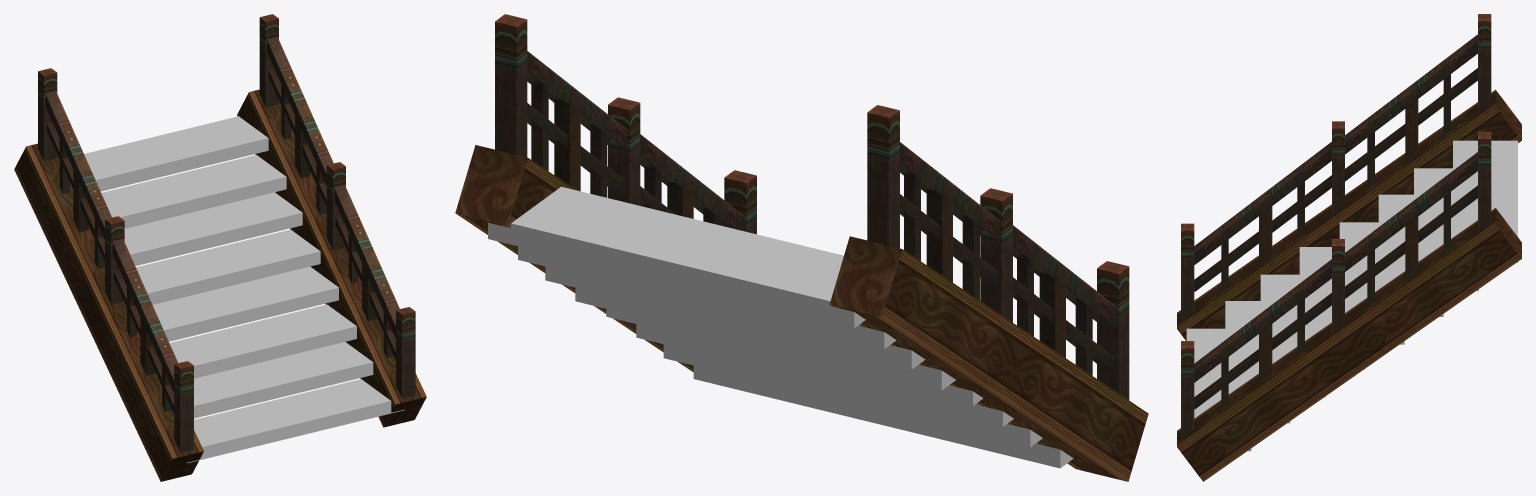
File: environment_Building_hantianta_001_g.FBX
3 renders of one model, left to right at view 1: azimuth 30°, elevation 25°; view 2: azimuth 150°, elevation 25°; view 3: azimuth 270°, elevation 25°, orthographic. The views are drawn at different scales.
Parts seen in each view (by area): view 1: environment_Building_hantianta_001_g01, environment_Building_hantianta_001_g02, environment_Building_hantianta_001_g03; view 2: environment_Building_hantianta_001_g01, environment_Building_hantianta_001_g02, environment_Building_hantianta_001_g03; view 3: environment_Building_hantianta_001_g03, environment_Building_hantianta_001_g02, environment_Building_hantianta_001_g01.
Part boxes in pixels (box(x1,y1,x2,y2)): environment_Building_hantianta_001_g01: box(84, 116, 404, 463); environment_Building_hantianta_001_g02: box(38, 14, 415, 452); environment_Building_hantianta_001_g03: box(14, 89, 426, 481); environment_Building_hantianta_001_g01: box(488, 186, 1073, 468); environment_Building_hantianta_001_g02: box(495, 14, 1129, 399); environment_Building_hantianta_001_g03: box(455, 145, 1148, 481); environment_Building_hantianta_001_g03: box(1177, 89, 1521, 481); environment_Building_hantianta_001_g02: box(1181, 14, 1491, 439); environment_Building_hantianta_001_g01: box(1186, 140, 1517, 451).
Size of the model in its own units: 547 by 641 by 592.
